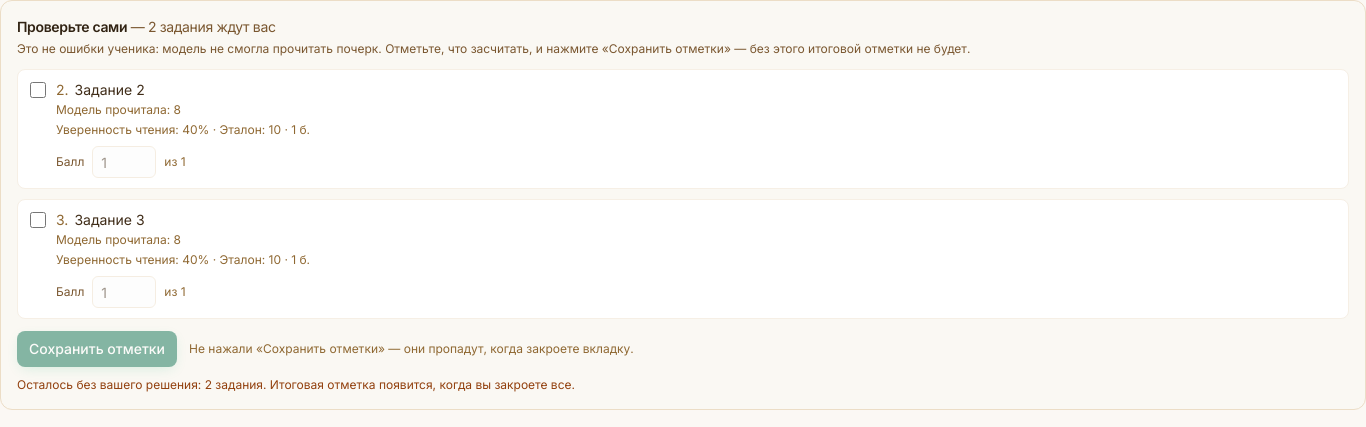
Test: ManualMarksEditor — отметки учителя (ТЗ-19) › при ошибке показан текст с причиной, а поля НЕ очищены
Click the checkbox with test id "manual-mark-2".
click(38, 90)  # box [30,82,46,98]
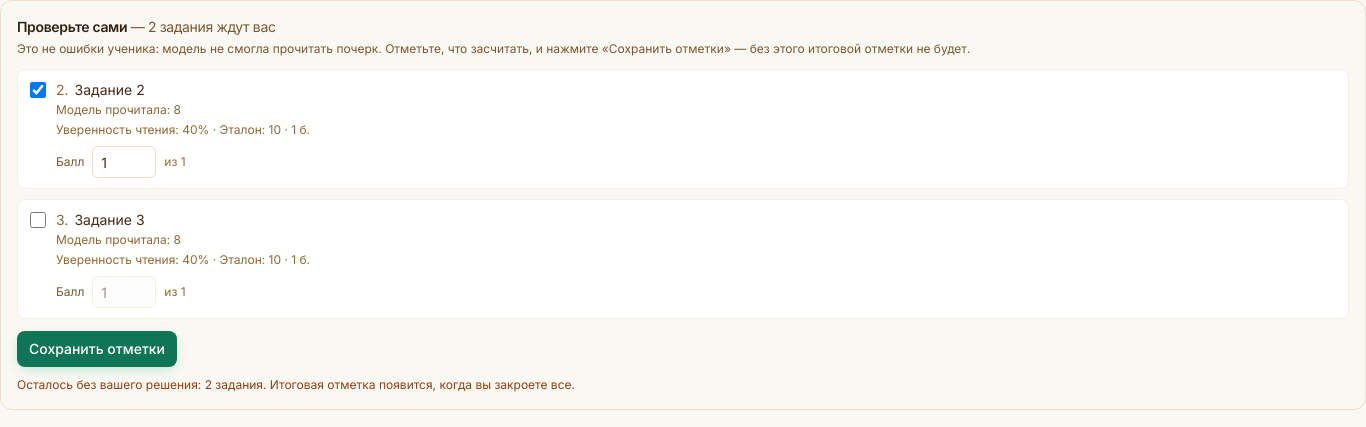
Click the button with test id "manual-marks-save".
click(97, 349)  # box [17,331,177,367]
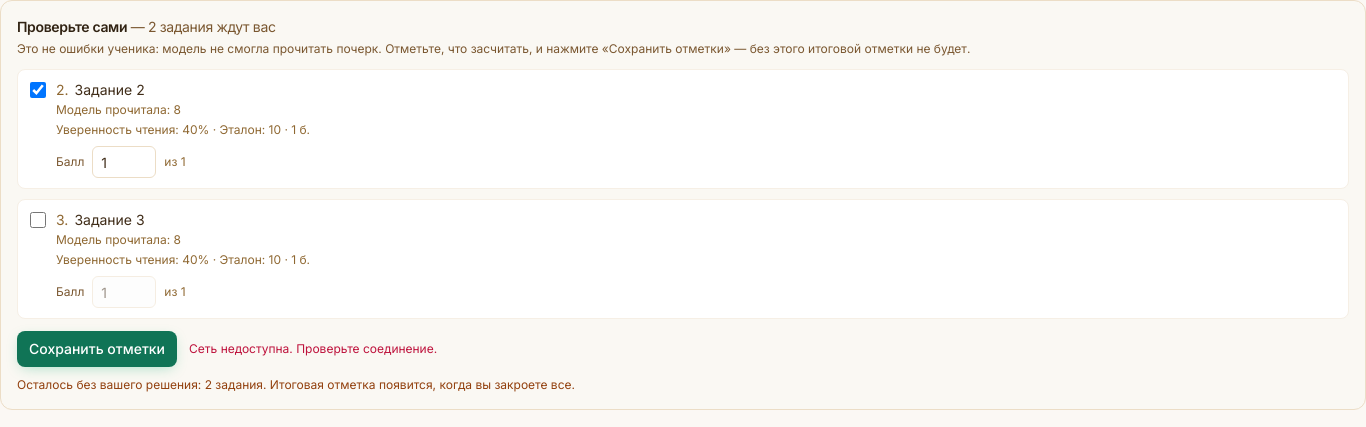
Now the checkbox with test id "manual-mark-2" is checked, box [30,82,46,98]
Now the message "Сеть недоступна. Проверьте соединение." is shown, box [189,341,437,357]
Now the text "Сеть недоступна" is shown, box [189,341,437,356]
